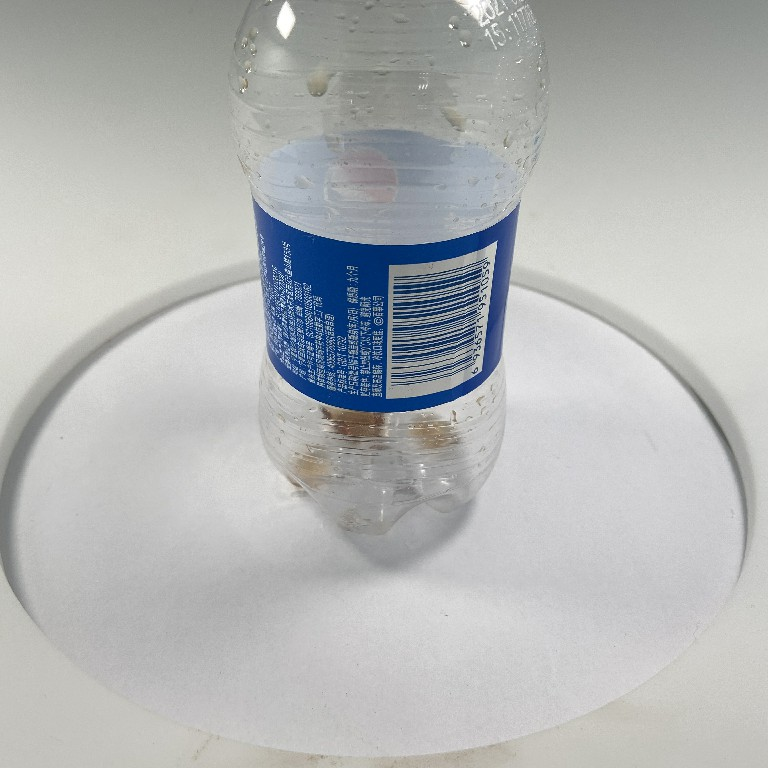bottle: (218, 1, 561, 539)
